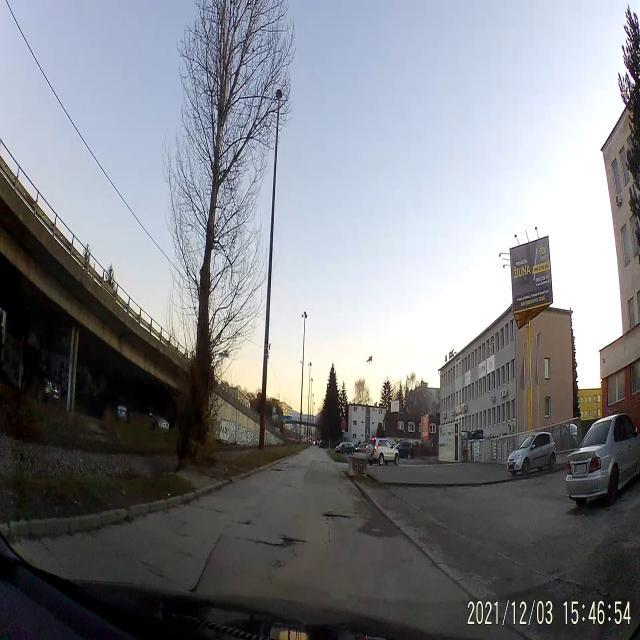Pothole: (258, 531, 304, 553), (322, 508, 356, 528), (238, 518, 252, 532), (266, 466, 290, 474), (284, 464, 297, 471), (281, 462, 290, 466)
